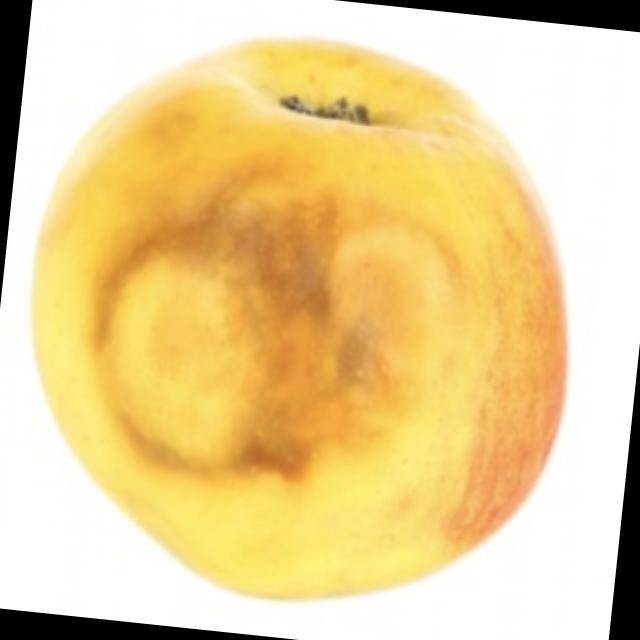rotten_apple: (6, 12, 596, 626)
